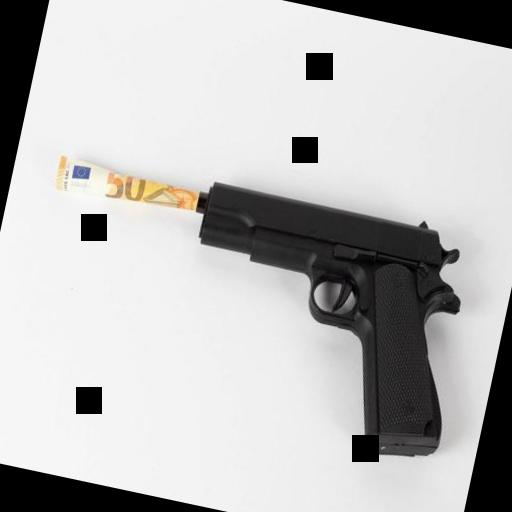Handgun: (148, 166, 486, 472)
